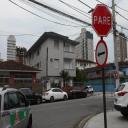NoEstacionar: (113, 70, 118, 80)
